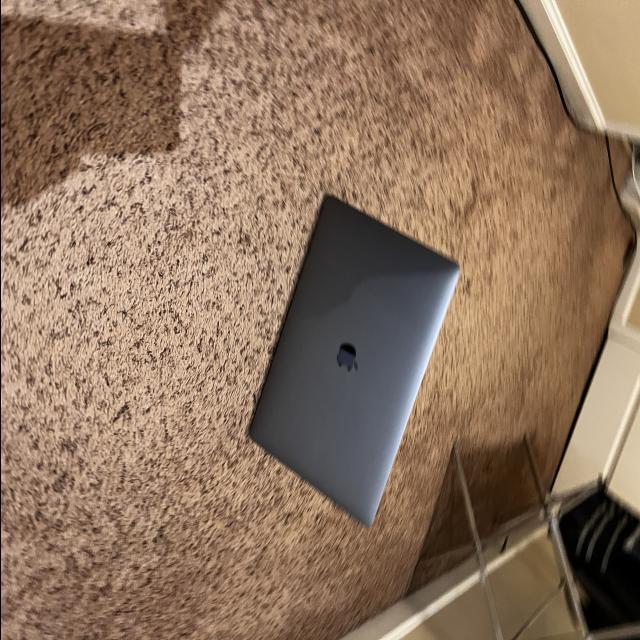laptop: (246, 192, 461, 527)
